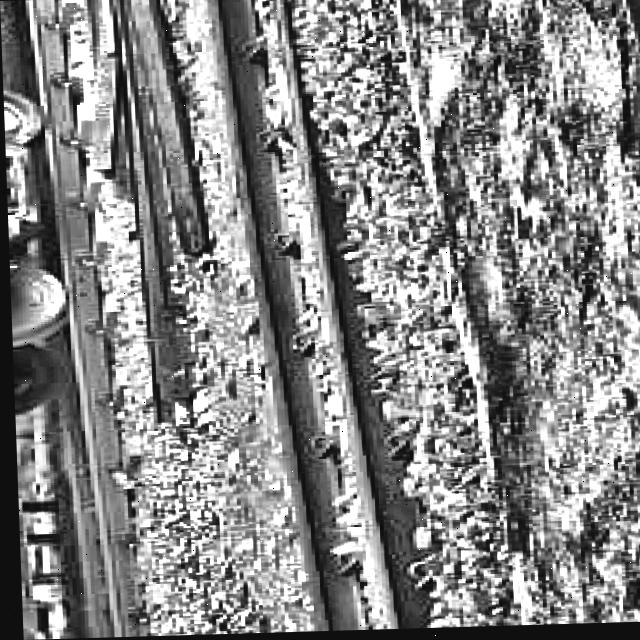Gerbong: (1, 0, 233, 640)
